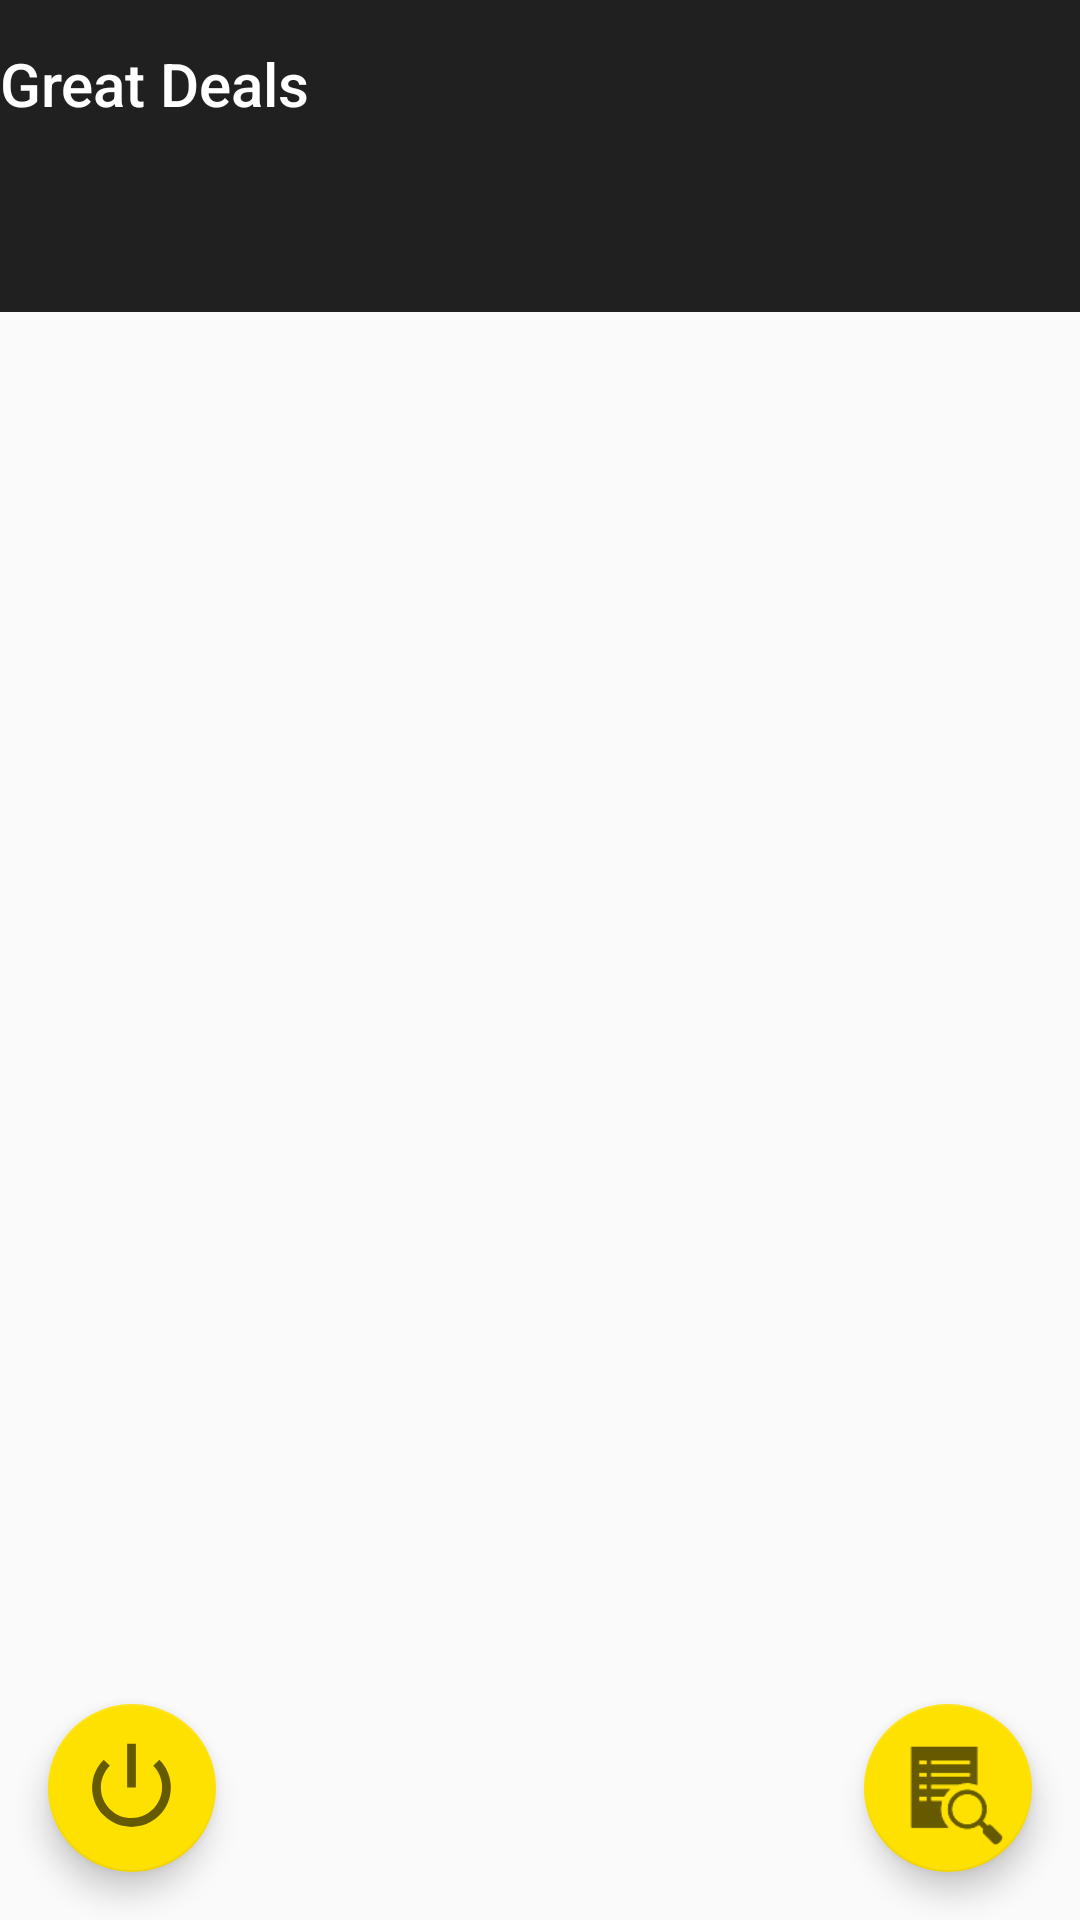

Where icons sit on this 1080x1920 app screen, as (x1=x1, y1=y1, x2=x2, y2=y2):
lock power off: (x1=48, y1=1704, x2=216, y2=1872)
